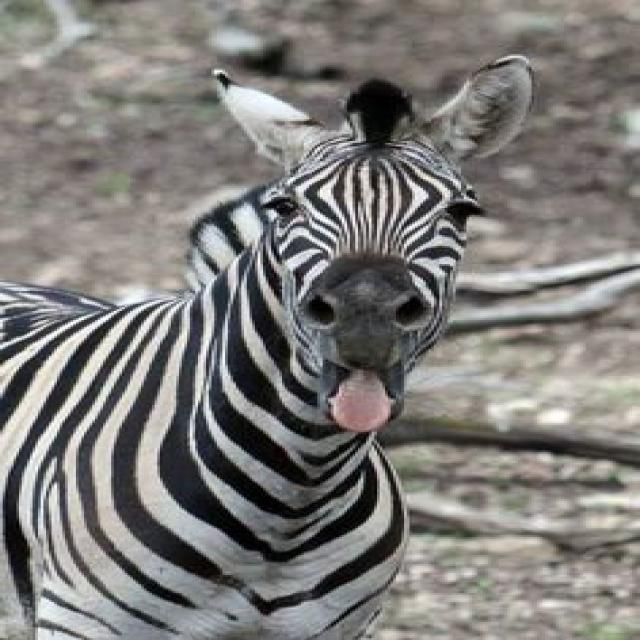Herbivorous: (0, 56, 532, 640)
